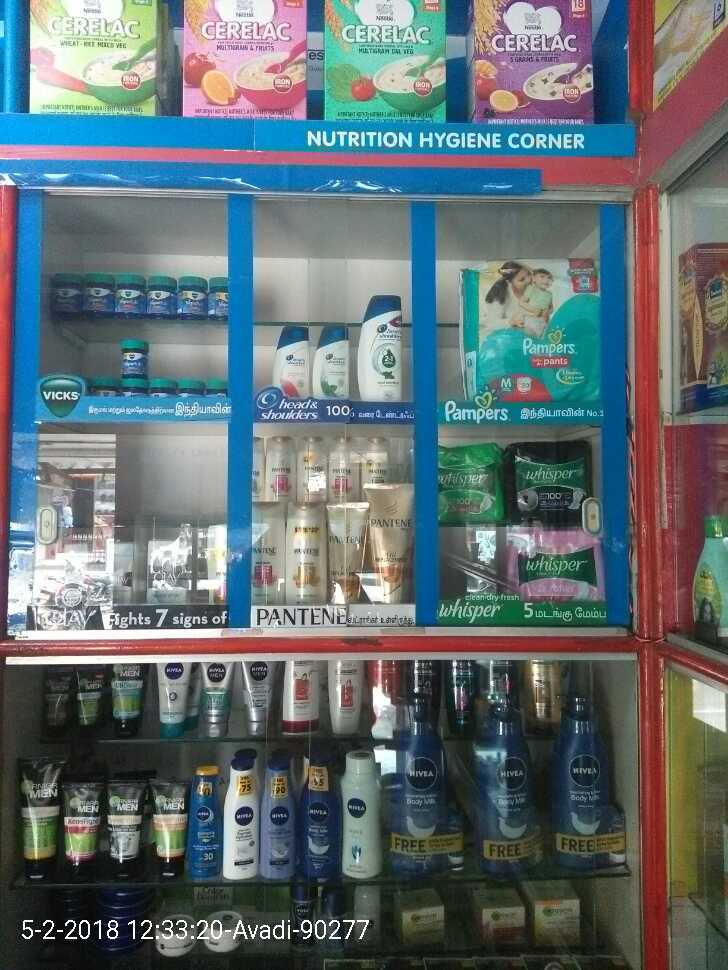vicks: (82, 335, 229, 398), (51, 271, 229, 322)
